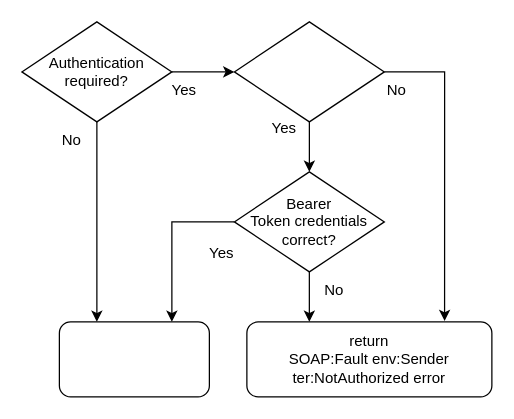
The diagram is 514 pixels wide and 419 high, and some of its shapes have lost their labels. Here are the shapes that lost their labels. From the top down, the box of each, then its label:
(233, 21, 384, 122): Credentials supplied?
(58, 321, 209, 397): Authentication successful
